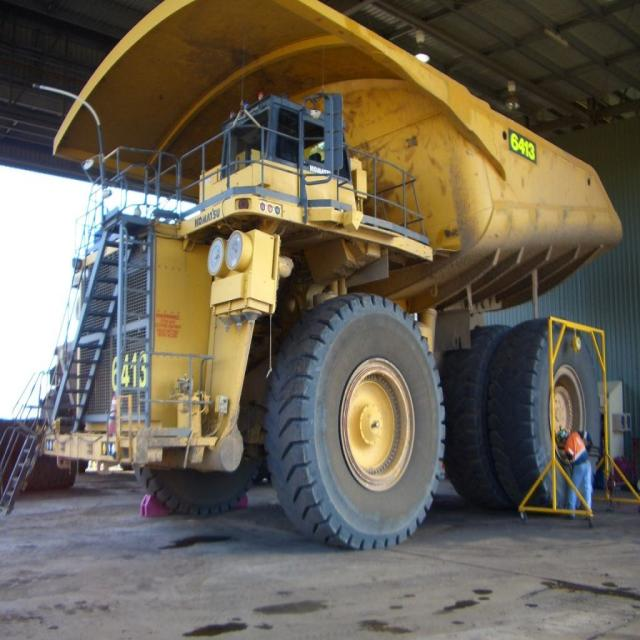dump_truck: (41, 11, 637, 546)
